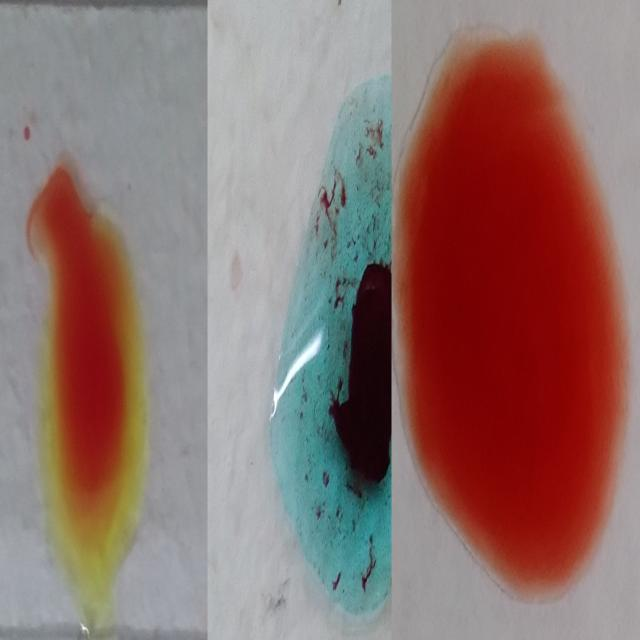A: (286, 106, 390, 610)
